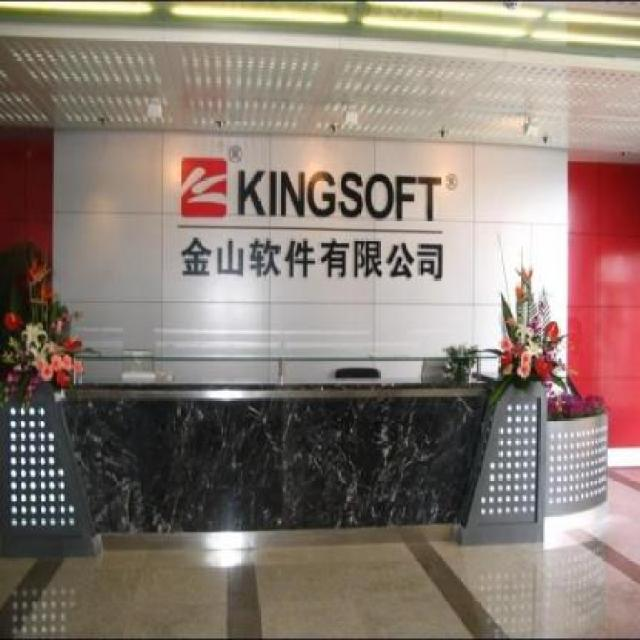frontdesk: (0, 360, 618, 571)
